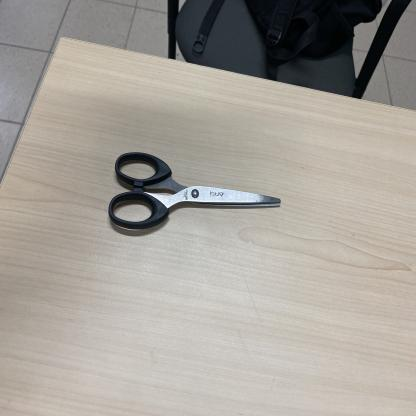scissors: (108, 150, 280, 232)
